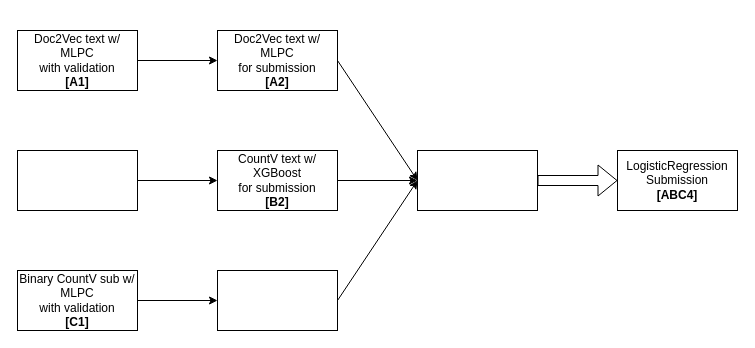
Image size: 755x348. Some labels were removed from this diagram. The centre of each missing label's shape, as x and y in pixels:
Binary CountV sub w/ MLPC for submission [C2]: the point at 277,300
CountV text w/ XGBoost with validation [B1 ]: the point at 77,180
LogisticRegression with validation [ABC3]: the point at 477,180
